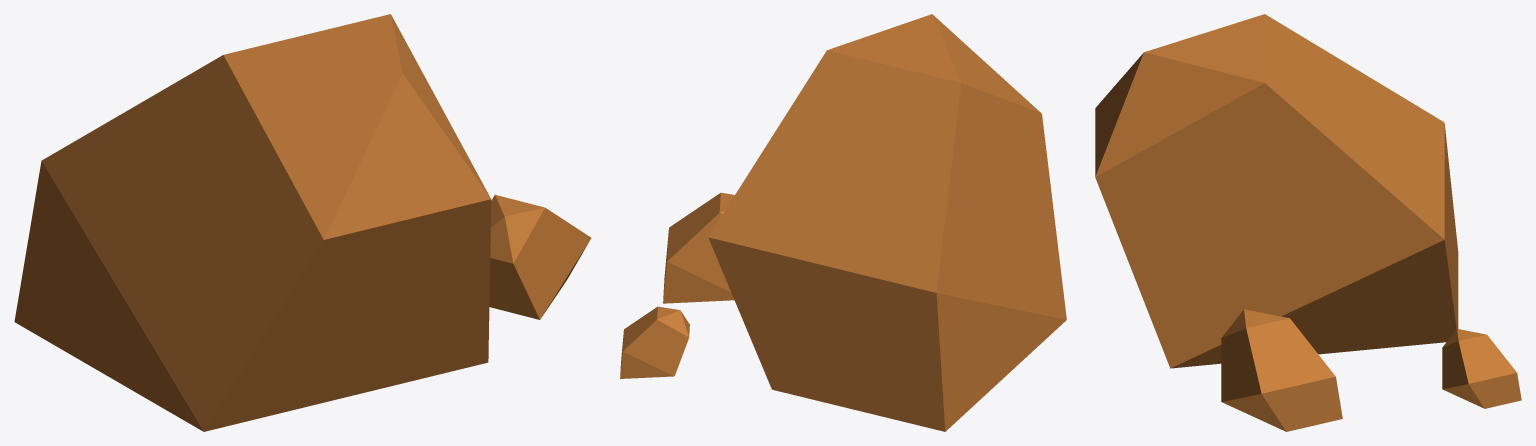
Rendered from copper_ore.glb.
The picture shows the model from 3 angles, left to right: view 1: azimuth 30°, elevation 25°; view 2: azimuth 150°, elevation 25°; view 3: azimuth 270°, elevation 25°; orthographic projection. The views are drawn at different scales.
Parts seen in each view (by area): view 1: copper_ore; view 2: copper_ore; view 3: copper_ore.
Part boxes in pixels (<box>): copper_ore: <box>14,14,591,431</box>; copper_ore: <box>620,14,1066,431</box>; copper_ore: <box>1095,14,1521,431</box>.
Size of the model in its own units: 0.4145 by 0.2883 by 0.3934.
